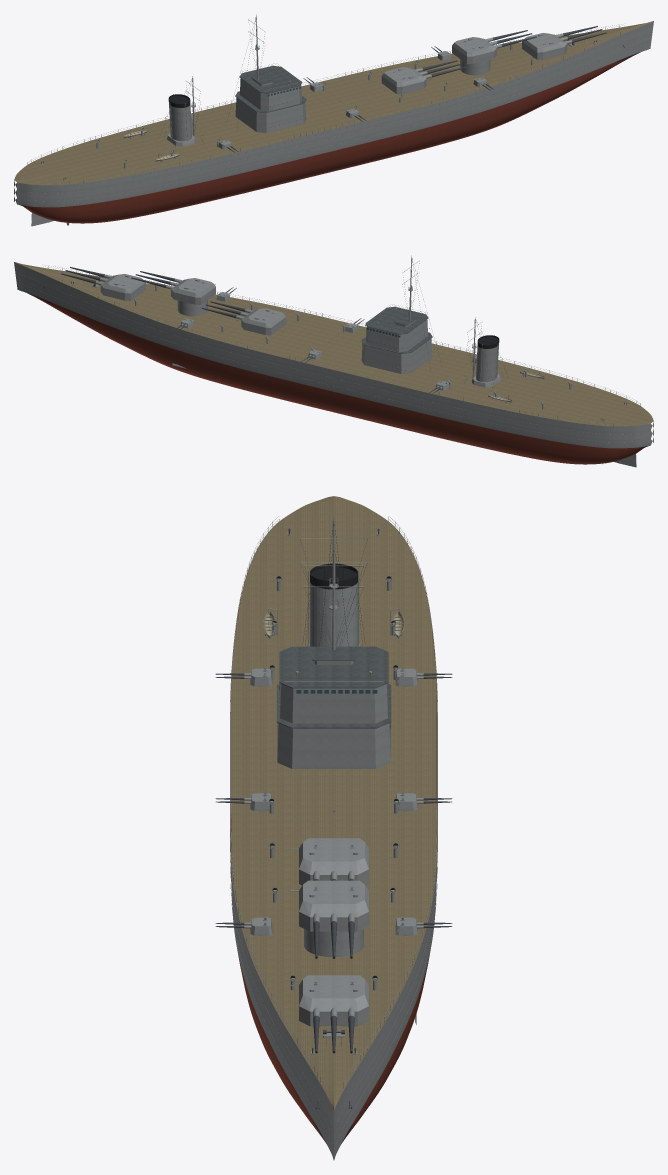
The model's file is nelson.glb.
The picture shows the model from 3 angles, top to bottom: view 1: azimuth 30°, elevation 25°; view 2: azimuth 150°, elevation 25°; view 3: azimuth 270°, elevation 25°; orthographic projection. The views are drawn at different scales.
Parts seen in each view (by area): view 1: Nelson class; view 2: Nelson class; view 3: Nelson class.
Part boxes in pixels (box(x1,y1,x2,y2)): Nelson class: box(14, 14, 653, 226); Nelson class: box(14, 255, 653, 467); Nelson class: box(215, 496, 452, 1160).
Bounding box in the file's own units: 214 × 50.97 × 34.33.
Materials: 9 (8 with a texture image).
